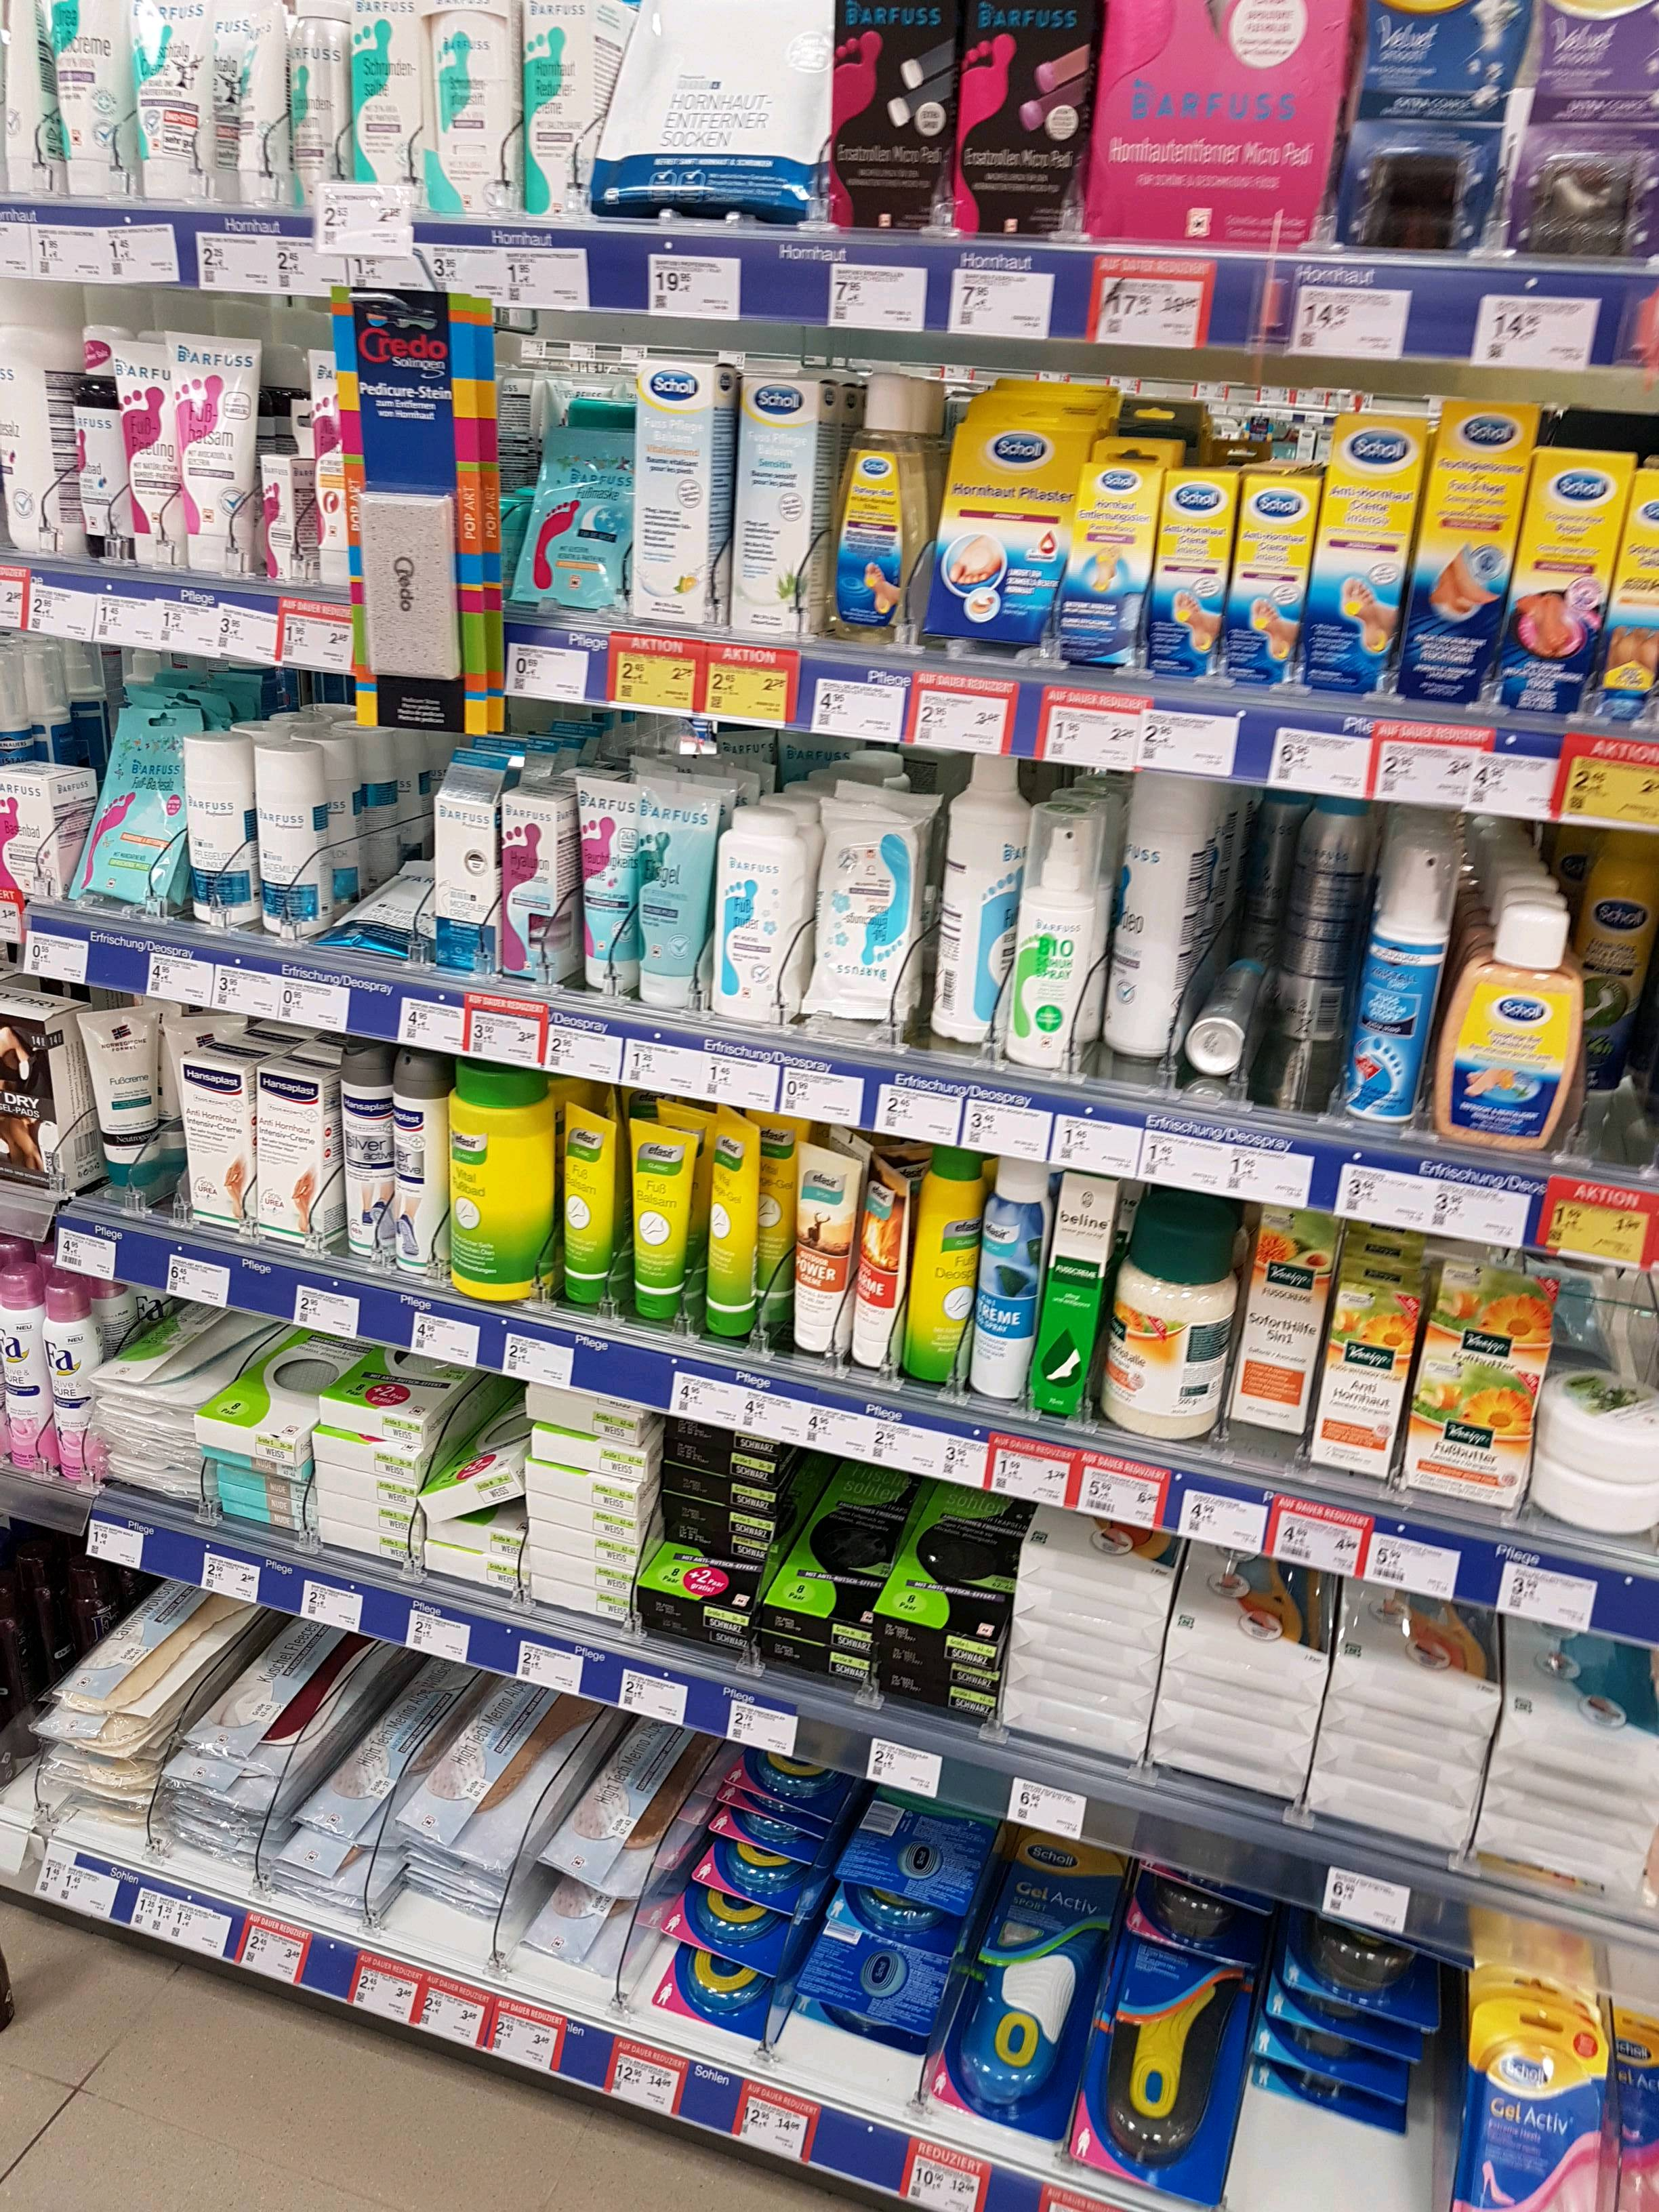product: (340, 289, 493, 730), (1101, 7, 1323, 247), (584, 12, 824, 211), (1337, 813, 1483, 1104), (913, 408, 1072, 657), (1499, 2, 1659, 246), (1476, 1991, 1642, 2212), (1351, 3, 1493, 251), (1300, 411, 1424, 686), (950, 7, 1096, 239), (1012, 777, 1122, 1064), (812, 796, 938, 1038), (1133, 1881, 1234, 2177), (1506, 446, 1617, 711), (826, 0, 948, 235), (1427, 1277, 1539, 1514), (633, 352, 728, 625), (450, 1055, 551, 1305), (1129, 1183, 1225, 1444), (829, 373, 915, 658), (3, 272, 84, 571), (730, 373, 824, 622), (1431, 401, 1506, 711), (528, 394, 633, 611), (1476, 873, 1556, 1157), (988, 1853, 1070, 2116), (974, 1141, 1056, 1397), (640, 773, 725, 1008), (1141, 465, 1234, 674), (429, 3, 518, 219), (809, 1916, 957, 2043), (31, 1597, 169, 1733), (1319, 1263, 1403, 1486), (425, 763, 505, 991), (70, 996, 164, 1190), (1230, 1212, 1310, 1439), (728, 801, 805, 1036), (207, 5, 295, 207), (324, 1029, 396, 1275), (263, 740, 354, 932), (415, 1674, 488, 1909), (89, 711, 174, 911), (176, 732, 260, 932), (622, 1118, 699, 1334), (570, 773, 641, 1005), (349, 2, 430, 204), (1129, 773, 1188, 1052), (183, 343, 254, 570), (179, 1043, 260, 1242), (113, 348, 183, 577), (702, 1101, 767, 1346), (1072, 449, 1141, 676), (957, 756, 1007, 1066), (580, 1709, 650, 1933), (94, 1367, 207, 1505), (127, 7, 206, 206), (263, 1721, 390, 1839), (1298, 780, 1354, 1049), (504, 770, 568, 991), (922, 1139, 976, 1399), (1269, 2043, 1410, 2141), (788, 1143, 847, 1372), (1237, 465, 1300, 681), (260, 1061, 333, 1245), (1589, 833, 1645, 1075), (556, 1094, 615, 1312), (850, 1165, 913, 1371), (523, 3, 584, 214), (63, 3, 129, 197), (183, 1653, 289, 1771), (1284, 1912, 1413, 2008), (849, 1810, 974, 1905), (681, 1864, 791, 1972), (401, 1052, 451, 1280), (1333, 1656, 1502, 1724), (3, 7, 63, 200), (742, 1740, 823, 1881), (1516, 1702, 1654, 1777), (1175, 1618, 1317, 1688), (666, 1966, 795, 2043), (3, 1266, 49, 1484), (296, 3, 343, 207), (1323, 1770, 1467, 1836), (1065, 1163, 1101, 1420), (1026, 1533, 1171, 1597), (1298, 2005, 1434, 2071), (52, 1284, 98, 1477), (1541, 1393, 1659, 1467), (1541, 1467, 1657, 1538), (1493, 1770, 1649, 1822), (1009, 1581, 1148, 1639), (1157, 1726, 1288, 1787), (1337, 1723, 1495, 1771), (310, 350, 340, 587), (1499, 1815, 1659, 1857), (1016, 1639, 1143, 1689), (263, 449, 308, 590), (1168, 1684, 1314, 1726), (523, 1428, 653, 1474), (87, 378, 120, 556), (1009, 1688, 1138, 1731), (314, 1386, 423, 1435), (770, 1599, 871, 1649), (671, 1420, 781, 1465), (890, 1618, 999, 1662), (667, 1494, 782, 1534), (678, 1456, 786, 1496), (650, 1585, 749, 1629), (525, 1501, 640, 1538), (770, 1646, 880, 1684), (315, 1526, 411, 1569), (525, 1467, 640, 1501), (887, 1656, 1002, 1689), (532, 1386, 643, 1420), (207, 1418, 301, 1454), (314, 1439, 422, 1470), (432, 1515, 525, 1552), (545, 1590, 647, 1622), (418, 1480, 519, 1512), (538, 1536, 638, 1568), (418, 1554, 523, 1583), (1199, 1012, 1244, 1078), (889, 1688, 990, 1717), (228, 1494, 305, 1533), (535, 1561, 640, 1587), (322, 1494, 415, 1519), (221, 1467, 312, 1489), (310, 1470, 411, 1489), (683, 1536, 765, 1559)
